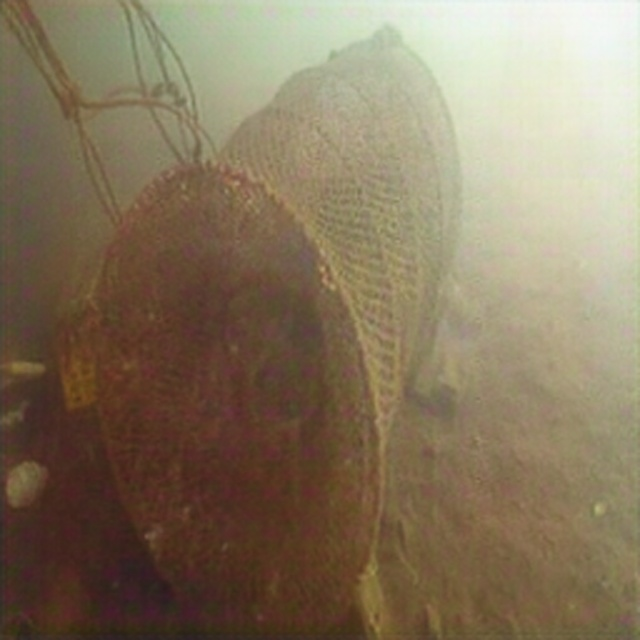mine: (93, 37, 463, 640)
